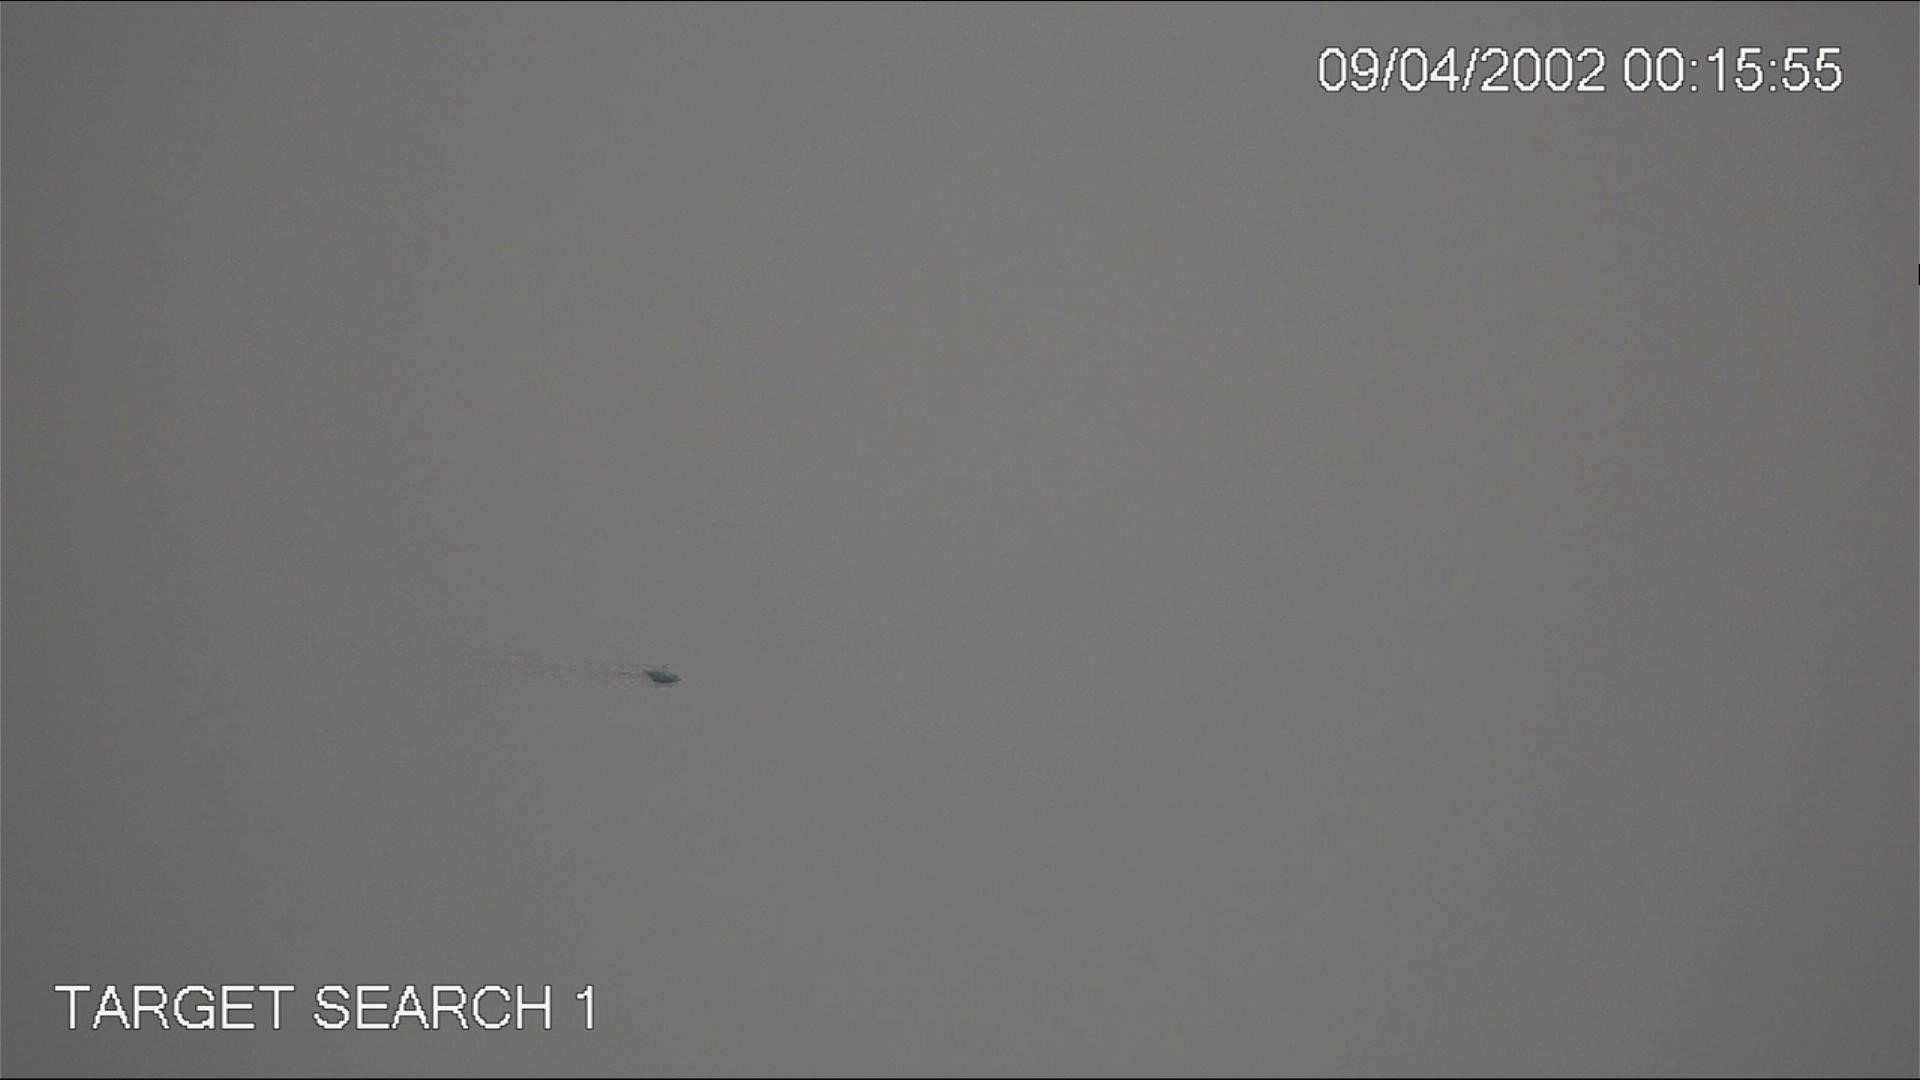SU_30: (617, 650, 696, 688)
